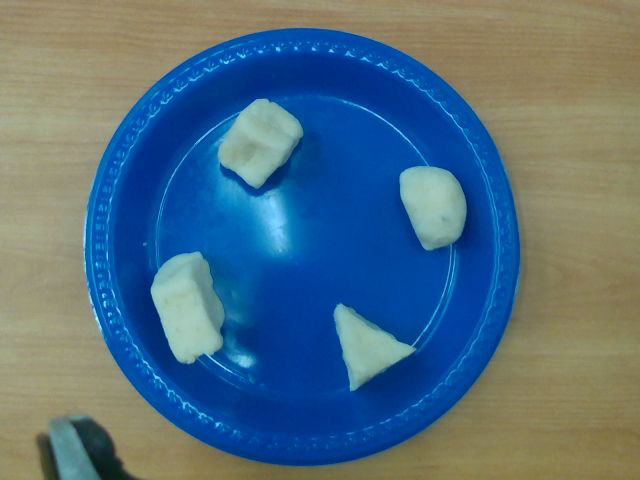mashed_potato: (150, 253, 226, 363), (216, 99, 304, 189), (333, 303, 417, 391), (400, 166, 467, 251)
